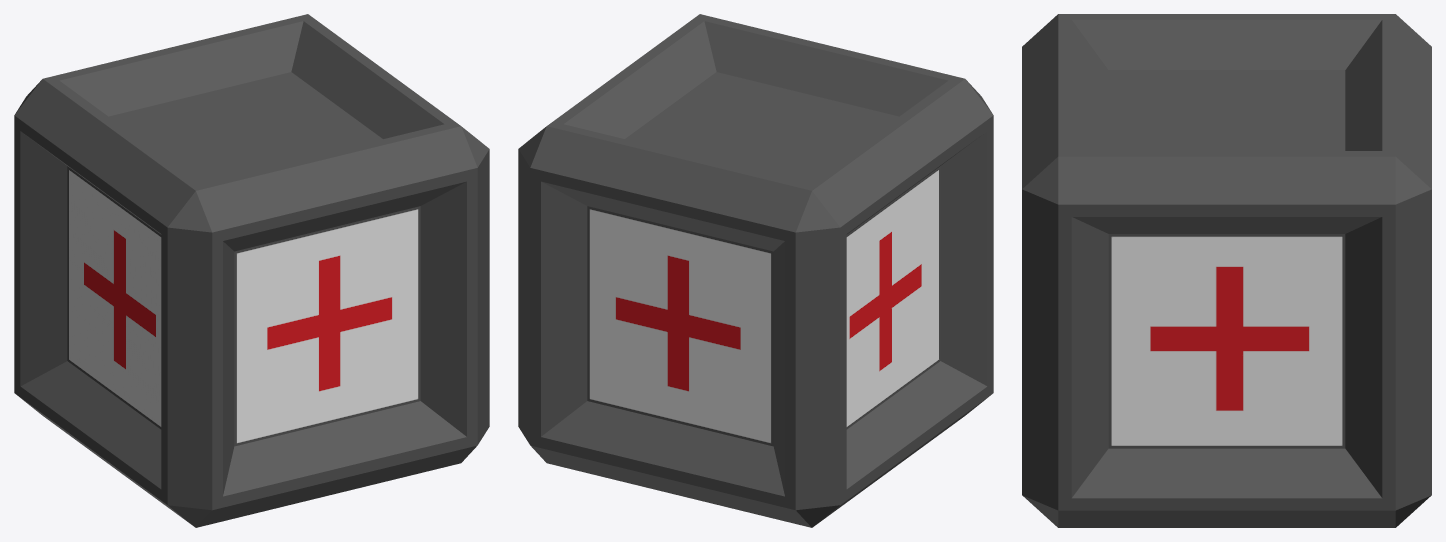
The model's file is Bonus.fbx.
3 views of the same model, side by side, from view 1: azimuth 30°, elevation 25°; view 2: azimuth 150°, elevation 25°; view 3: azimuth 270°, elevation 25° (orthographic). The views are drawn at different scales.
Visible parts, largest first — view 1: Cube; view 2: Cube; view 3: Cube.
Boxes of the visible parts, box(x1,y1,x2,y2) form: Cube: box(14, 14, 489, 527); Cube: box(518, 14, 993, 527); Cube: box(1022, 14, 1431, 527).
Bounding box in the file's own units: 0.9073 × 0.9073 × 0.9073.
1 material, 1 textured.
